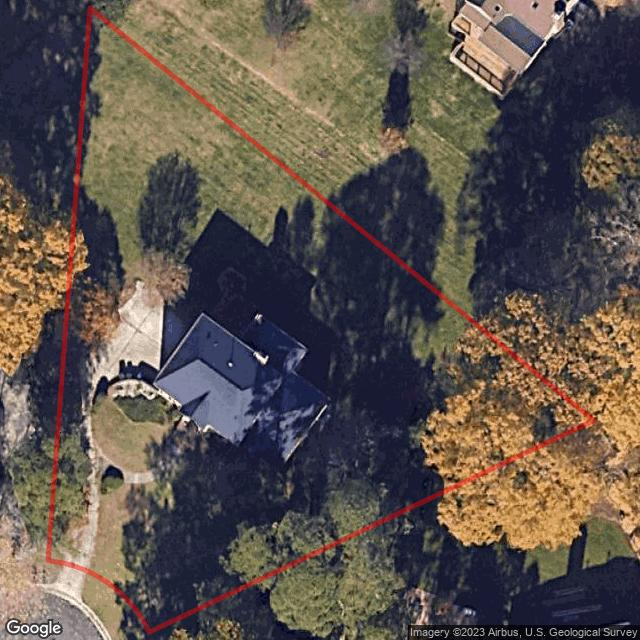Driveway: (63, 284, 186, 567)
Extra Driveway: (47, 565, 88, 601)
Extra Lawn: (84, 575, 146, 640), (43, 565, 61, 585)
House: (154, 312, 333, 463)
Sidewalk: (124, 466, 160, 483)
